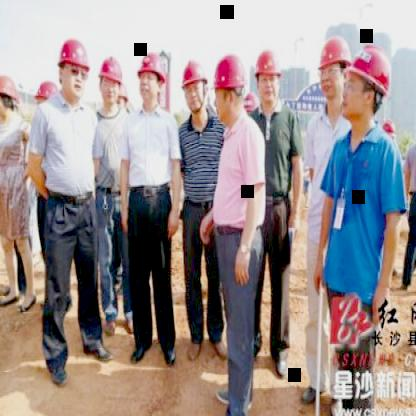helmet: (343, 42, 393, 130), (210, 48, 247, 124), (316, 32, 352, 108), (55, 34, 93, 104), (253, 46, 283, 112), (179, 56, 209, 120), (136, 46, 162, 108), (97, 53, 123, 110), (0, 68, 23, 126), (34, 76, 62, 118)
